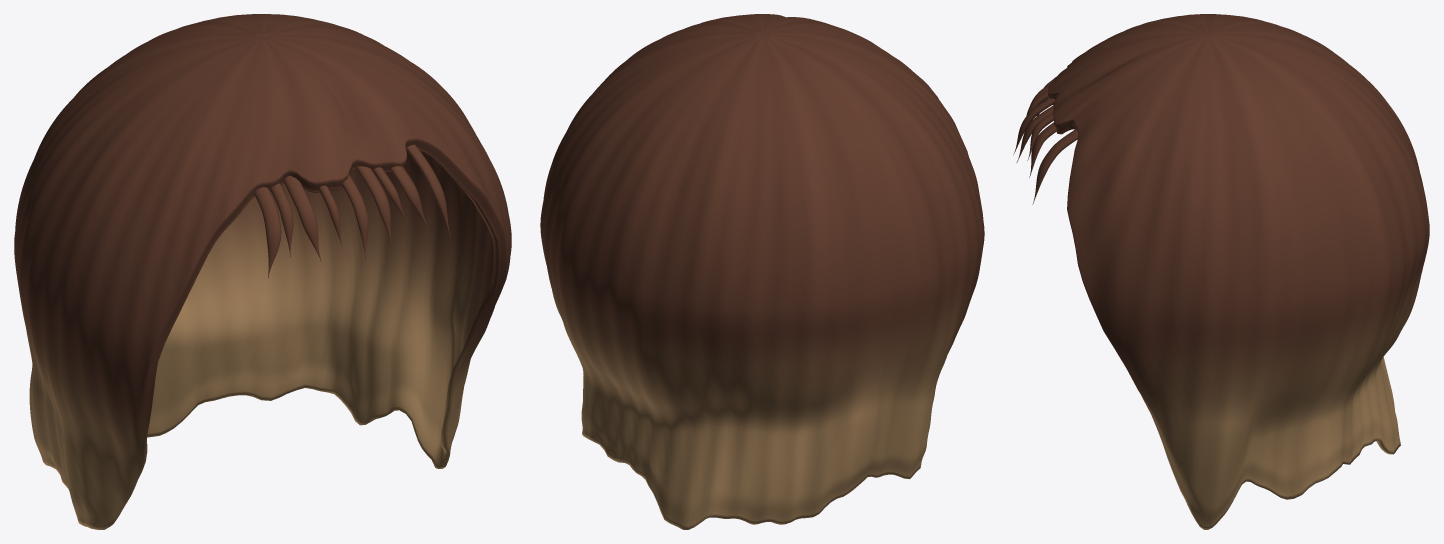
Rendered from side-sweep-none-ombre.glb.
3 renders of one model, left to right at view 1: azimuth 30°, elevation 25°; view 2: azimuth 150°, elevation 25°; view 3: azimuth 270°, elevation 25°, orthographic. The views are drawn at different scales.
Visible parts, largest first — view 1: Hair / layered lob, Fringe / tapered lock 01, Fringe / tapered lock 03, Fringe / tapered lock 09, Fringe / tapered lock 06, Fringe / tapered lock 05, Fringe / tapered lock 02, Fringe / tapered lock 08; view 2: Hair / layered lob; view 3: Hair / layered lob, Fringe / tapered lock 09.
Boxes of the visible parts, x1,y1,x2,y2 form: Hair / layered lob: [14, 14, 511, 529]; Fringe / tapered lock 01: [254, 187, 281, 278]; Fringe / tapered lock 03: [283, 175, 321, 261]; Fringe / tapered lock 09: [406, 144, 450, 237]; Fringe / tapered lock 06: [356, 166, 392, 245]; Fringe / tapered lock 05: [342, 174, 368, 259]; Fringe / tapered lock 02: [270, 183, 293, 257]; Fringe / tapered lock 08: [390, 166, 427, 226]; Hair / layered lob: [540, 14, 984, 529]; Hair / layered lob: [1048, 14, 1429, 529]; Fringe / tapered lock 09: [1032, 129, 1078, 204].
Bounding box in the file's own units: 0.8388 × 0.8786 × 0.7904.
